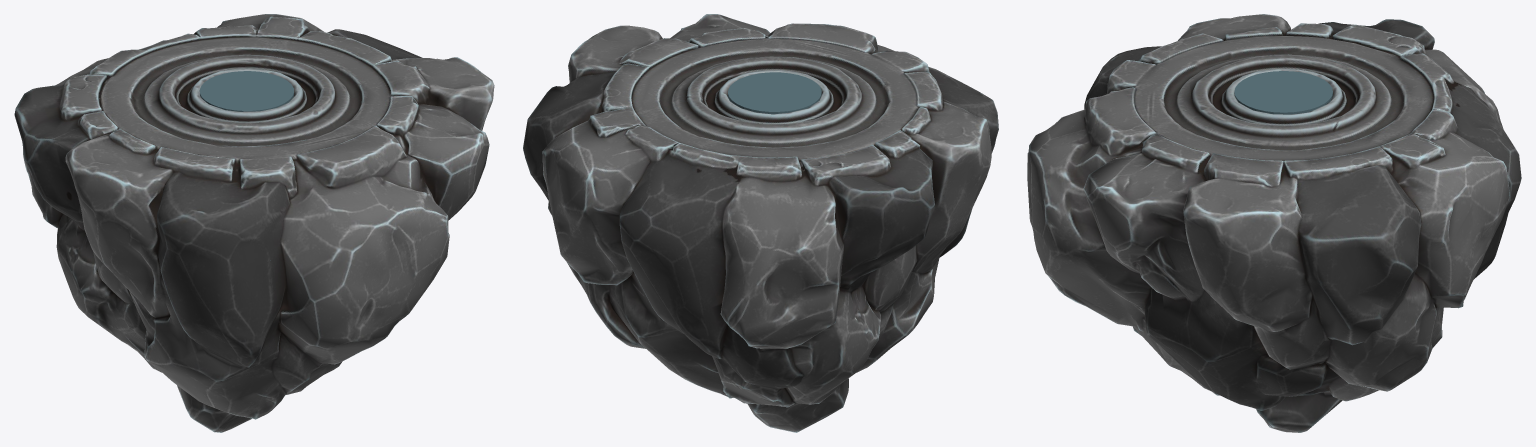
File: land.glb
3 views of the same model, side by side, from view 1: azimuth 30°, elevation 25°; view 2: azimuth 150°, elevation 25°; view 3: azimuth 270°, elevation 25° (orthographic). The views are drawn at different scales.
Parts seen in each view (by area): view 1: rocks_03:Group10022_0_Material #25_0; view 2: rocks_03:Group10022_0_Material #25_0; view 3: rocks_03:Group10022_0_Material #25_0.
Boxes of the visible parts, x1,y1,x2,y2 form: rocks_03:Group10022_0_Material #25_0: [14, 14, 494, 432]; rocks_03:Group10022_0_Material #25_0: [523, 14, 998, 432]; rocks_03:Group10022_0_Material #25_0: [1027, 14, 1521, 432].
Size of the model in its own units: 6.77 by 5.32 by 6.81.
Materials: 2 (1 with a texture image).
